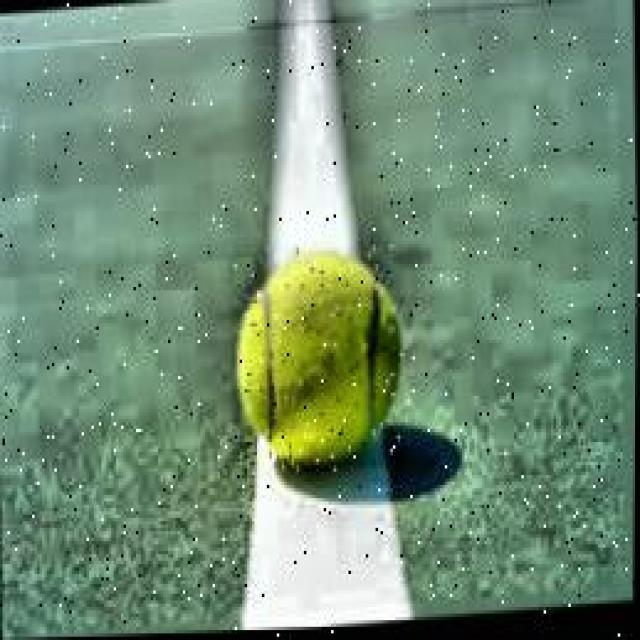tennis-ball: (226, 243, 409, 487)
